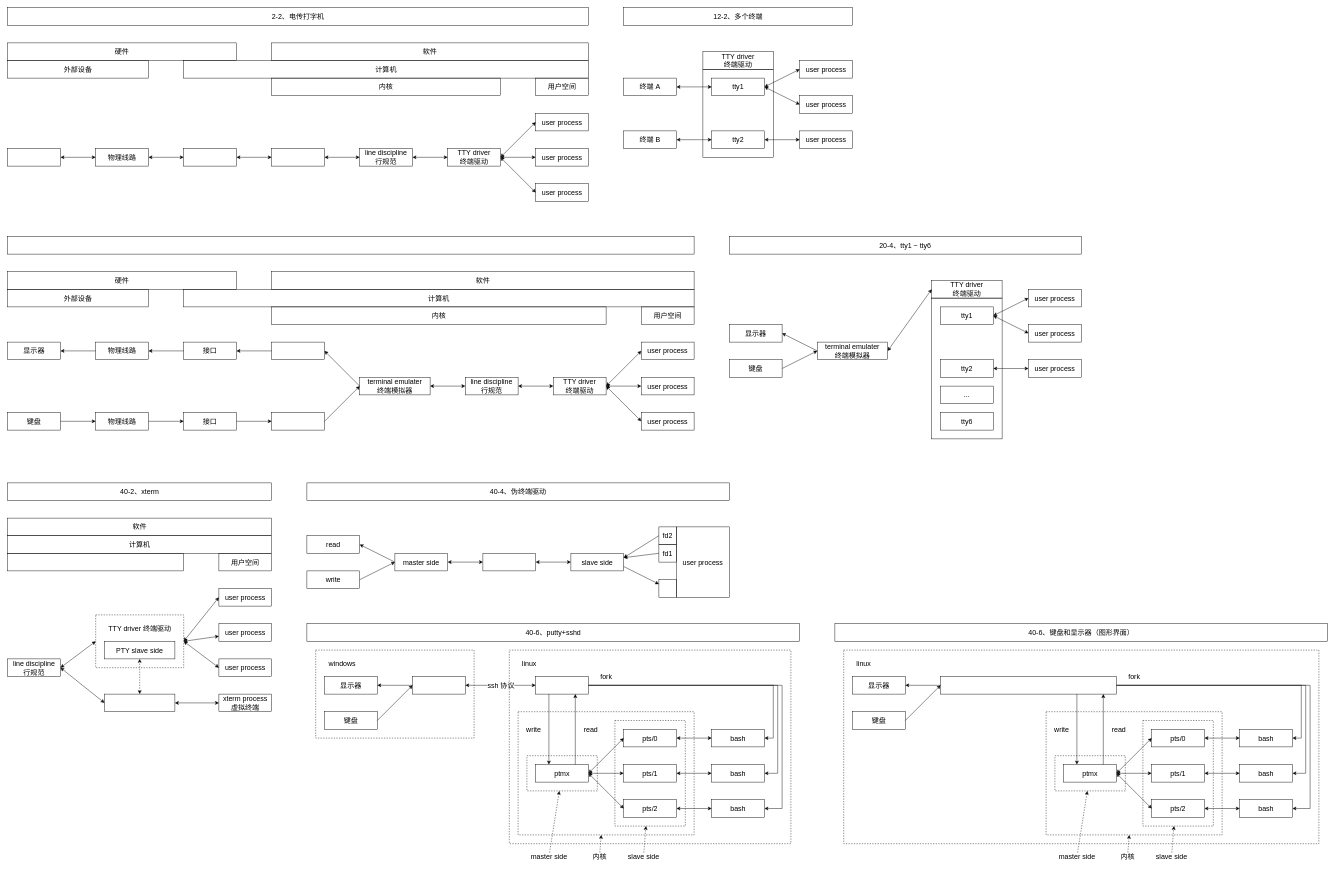
Image size: 1335x869. Some labels were removed from this diagram. The centre of each missing label's shape, as x and y in pixels:
20-2、键盘和显示器（直连）: point 350,245
fd0: point 667,588
PTY master side: point 139,703
putty （虚拟终端）: point 438,685
sshd (ssh server): point 561,685
URAT driver URAT 驱动: point 297,157
URAT 接口: point 209,157
伪终端驱动: point 509,562
内核空间: point 95,562
图形客户端（虚拟终端）: point 1028,685
显示器驱动: point 297,351
终端: point 33,157
键盘驱动: point 297,421
